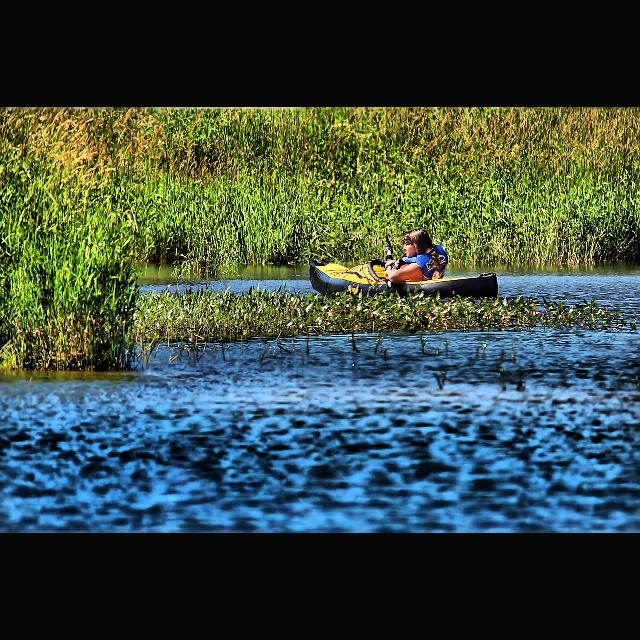kayak: (308, 258, 500, 302)
